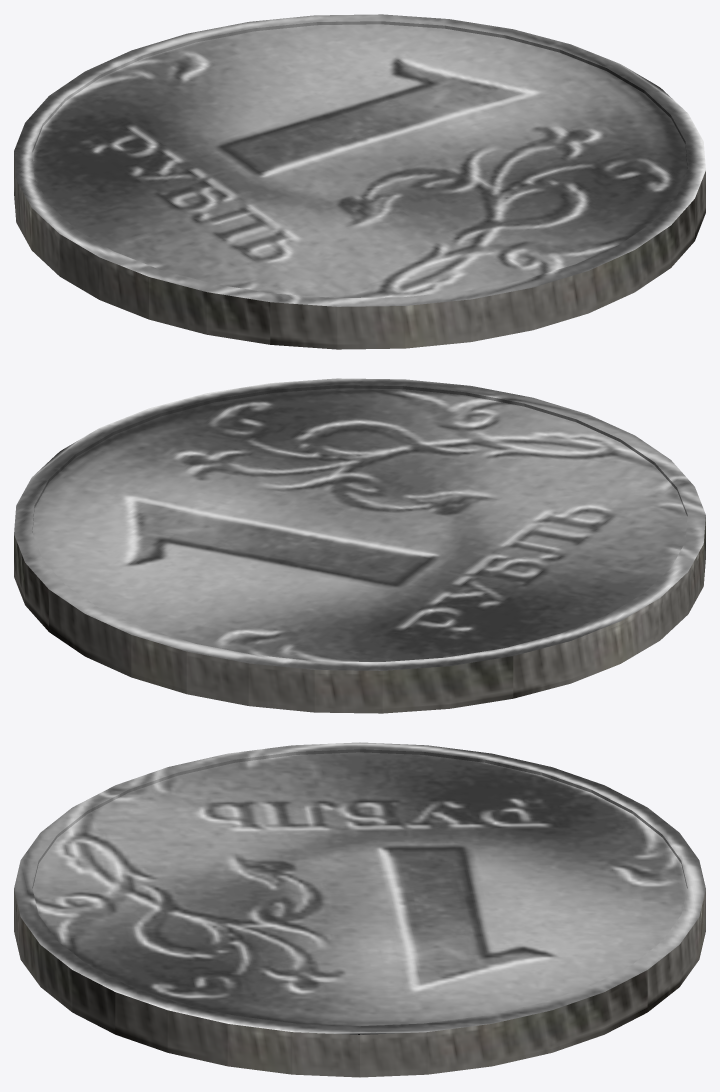
3 renders of one model, top to bottom at view 1: azimuth 30°, elevation 25°; view 2: azimuth 150°, elevation 25°; view 3: azimuth 270°, elevation 25°, orthographic.
Visible parts, largest first — view 1: Object_2; view 2: Object_2; view 3: Object_2.
Part boxes in pixels (x1,y1,x2,y2): Object_2: (14, 14, 705, 349); Object_2: (14, 378, 705, 713); Object_2: (14, 742, 705, 1077).
Bounding box in the file's own units: 0.108 × 0.00767 × 0.108.
Materials: 1 (1 with a texture image).
